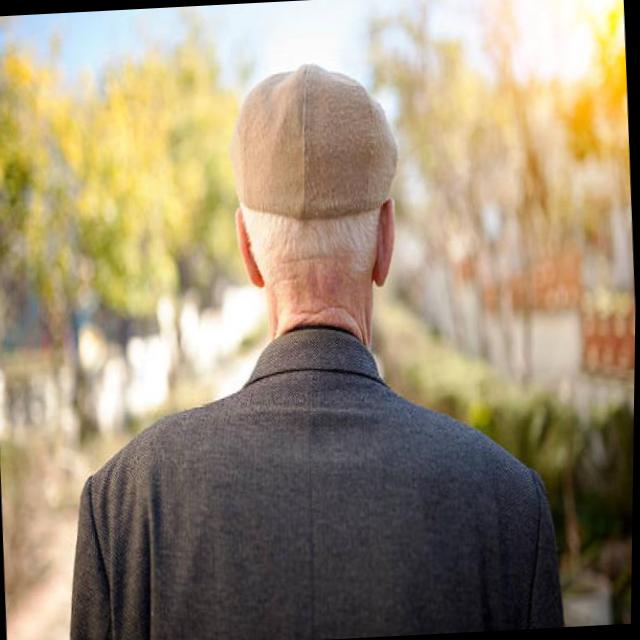no helmet: (214, 32, 412, 336)
